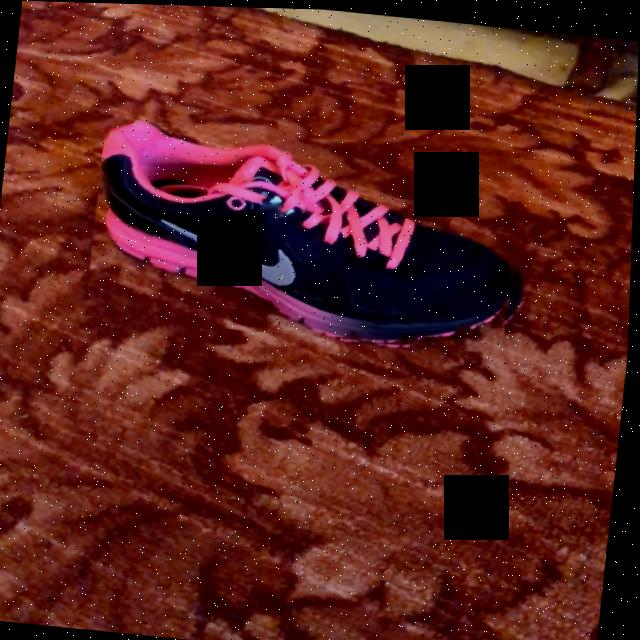shoe: (101, 120, 517, 341)
